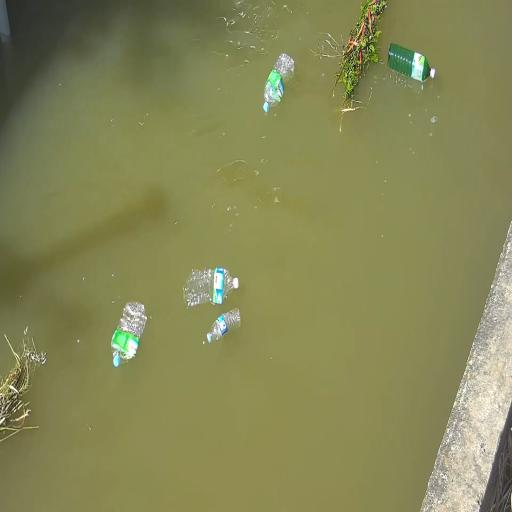plastic: (106, 292, 152, 371), (177, 262, 241, 308), (260, 46, 296, 110), (384, 44, 437, 86), (197, 310, 241, 342)
twig: (332, 0, 390, 104), (0, 331, 45, 446)
